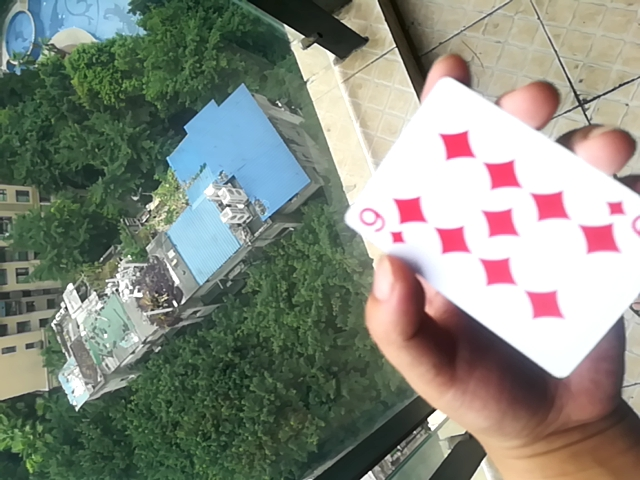fk 9: (334, 67, 640, 387)
